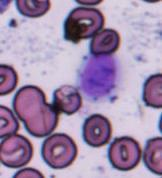L: (75, 52, 123, 101)
